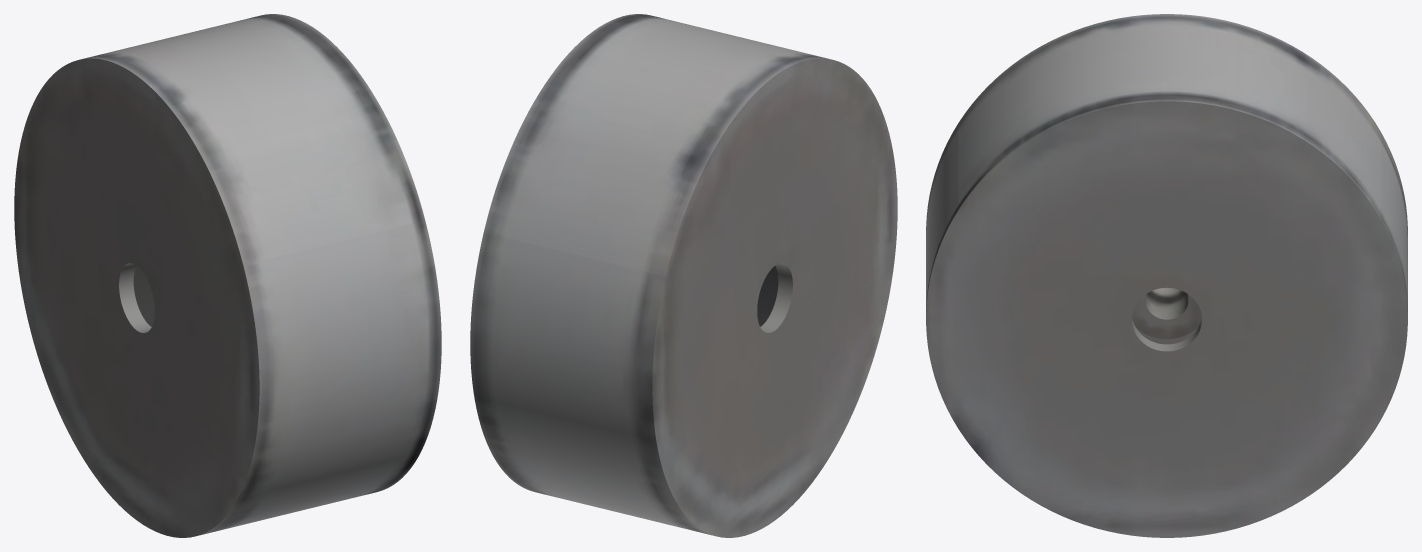
Rendered from housing__caster_wheel_0.glb.
3 views of the same model, side by side, from view 1: azimuth 30°, elevation 25°; view 2: azimuth 150°, elevation 25°; view 3: azimuth 270°, elevation 25° (orthographic).
Visible parts, largest first — view 1: geometry_0; view 2: geometry_0; view 3: geometry_0.
Boxes of the visible parts, box(x1,y1,x2,y2) form: geometry_0: box(14, 14, 441, 537); geometry_0: box(470, 14, 897, 537); geometry_0: box(926, 14, 1407, 537).
Size of the model in its own units: 0.03 by 0.07 by 0.07.
Materials: 1 (1 with a texture image).
